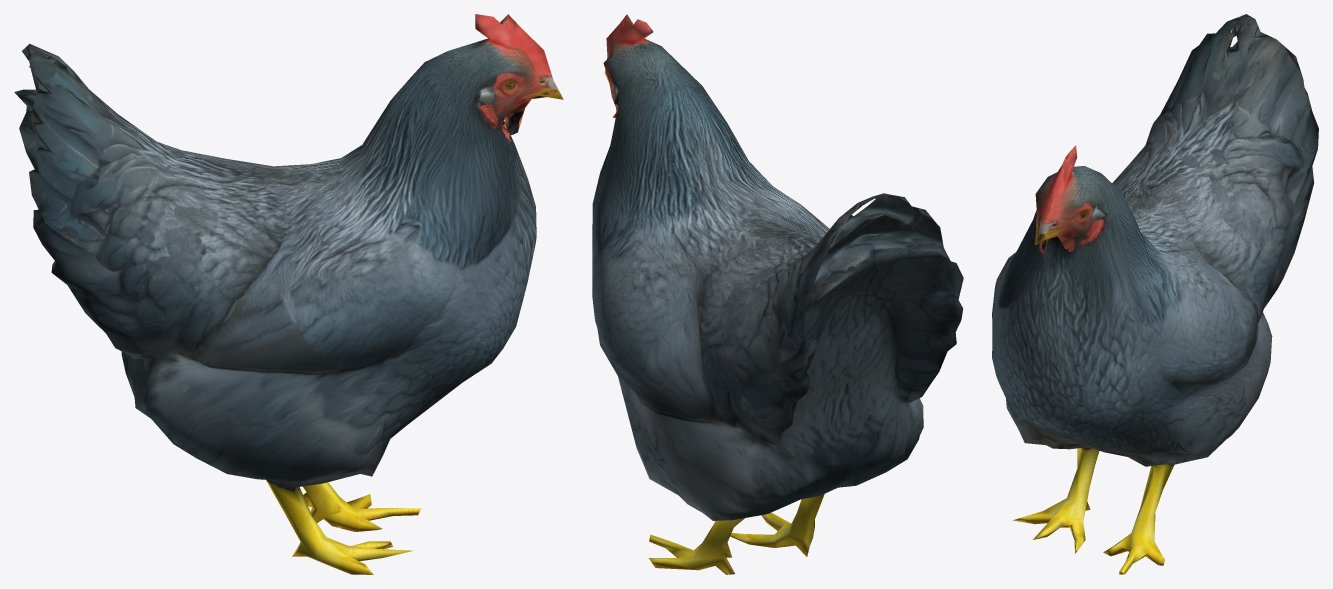
The model's file is chicken_cold_single_1500.glb.
3 renders of one model, left to right at view 1: azimuth 30°, elevation 25°; view 2: azimuth 150°, elevation 25°; view 3: azimuth 270°, elevation 25°, orthographic. The views are drawn at different scales.
Size of the model in its own units: 0.7488 by 0.816 by 0.542.
Materials: 1 (1 with a texture image).
